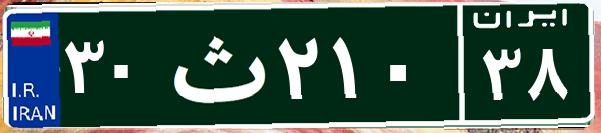0: (385, 28, 445, 110), (110, 28, 158, 105)
1: (330, 28, 385, 110)
2: (273, 28, 330, 110)
3: (57, 26, 110, 107), (475, 38, 525, 113)
8: (525, 38, 570, 115)
ث: (158, 15, 273, 115)
